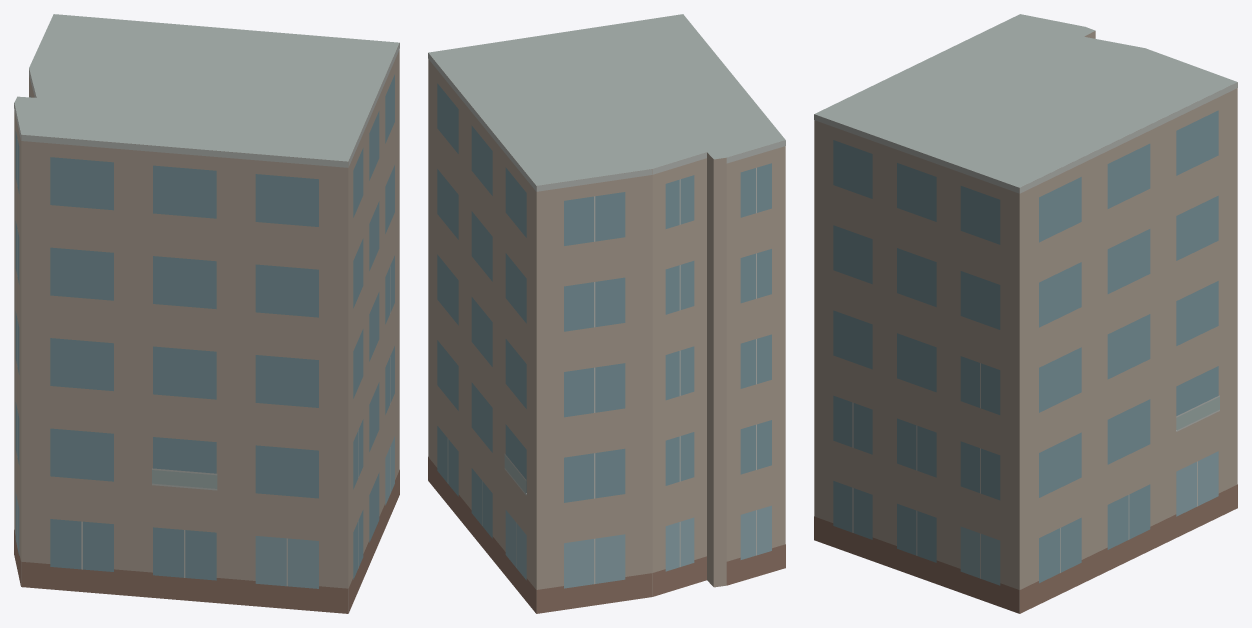
Rendered from survey-upis-33001502.glb.
3 renders of one model, left to right at view 1: azimuth 30°, elevation 25°; view 2: azimuth 150°, elevation 25°; view 3: azimuth 270°, elevation 25°, orthographic. The views are drawn at different scales.
Visible parts, largest first — view 1: survey-upis-33001502.tmp; view 2: survey-upis-33001502.tmp; view 3: survey-upis-33001502.tmp.
Boxes of the visible parts, box(x1,y1,x2,y2) form: survey-upis-33001502.tmp: box(14, 14, 399, 613); survey-upis-33001502.tmp: box(428, 14, 785, 613); survey-upis-33001502.tmp: box(814, 14, 1237, 613).
Bounding box in the file's own units: 15.42 × 17.61 × 15.88.
